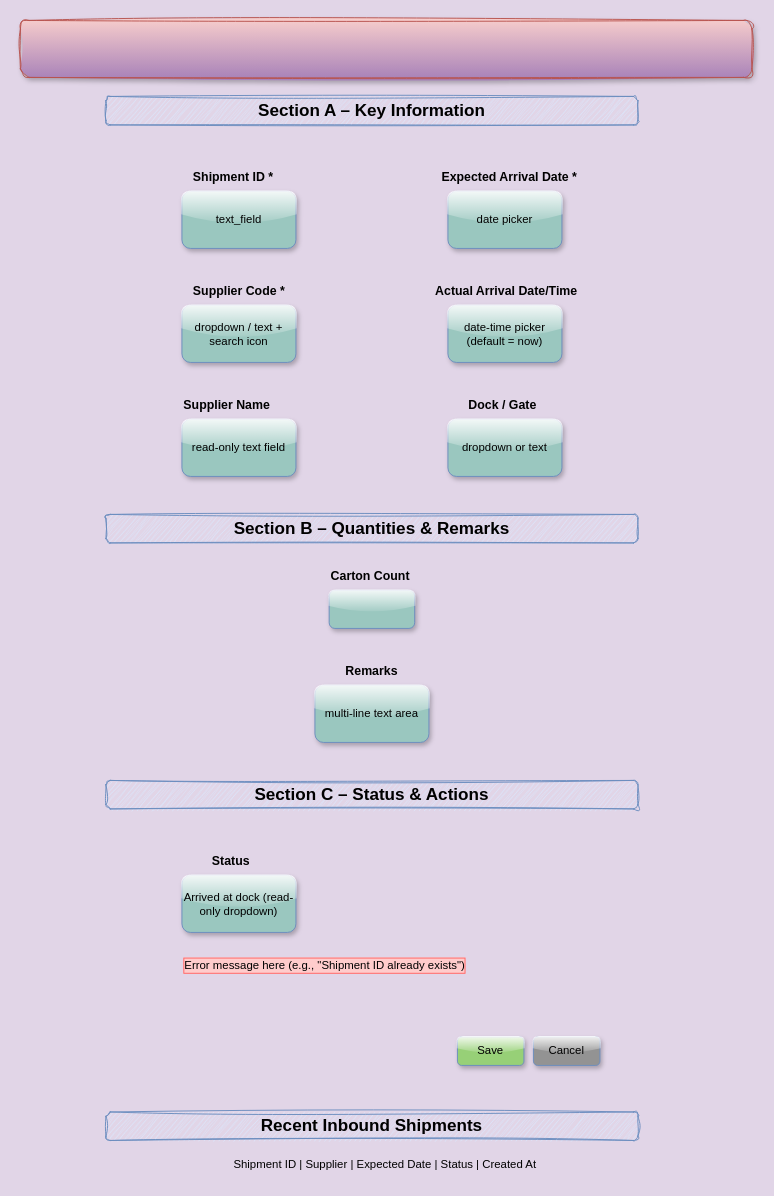
Image size: 774x1196. Some labels were removed from this diagram. Here are the shapes that lost their labels. From the top down, the centre of each, then its label:
At (x=387, y=50): "Record Inbound Shipment".
At (x=372, y=610): "numeric field".
